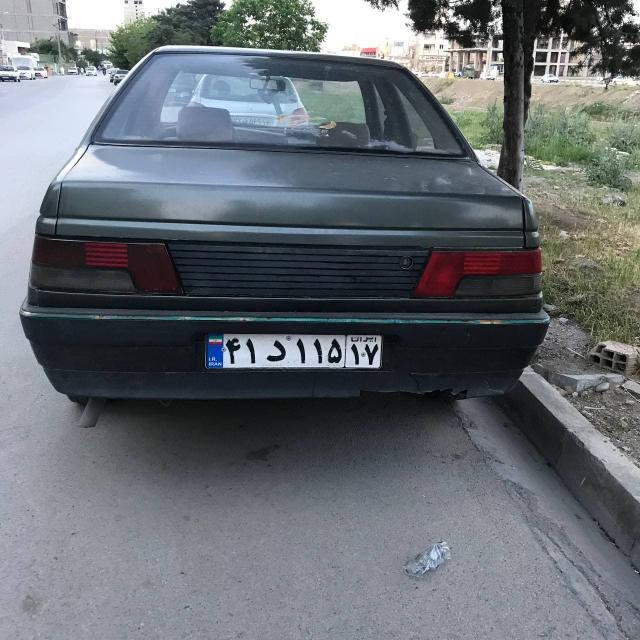Plates: (207, 334, 381, 370)
